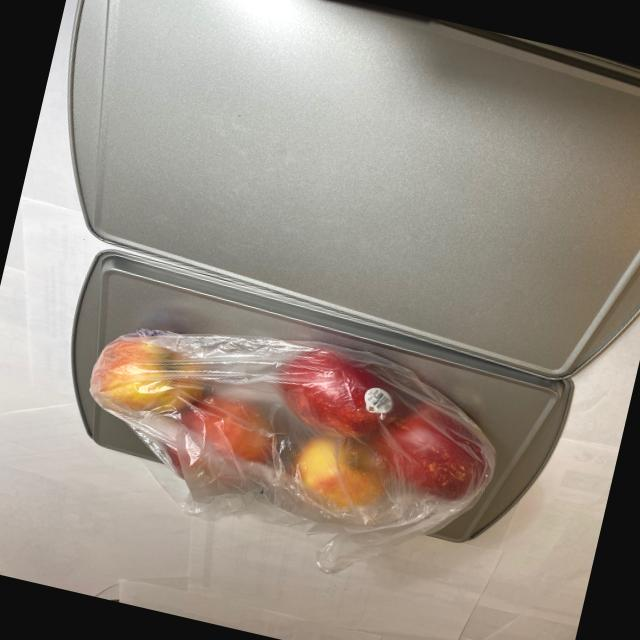apple: (64, 291, 512, 549)
